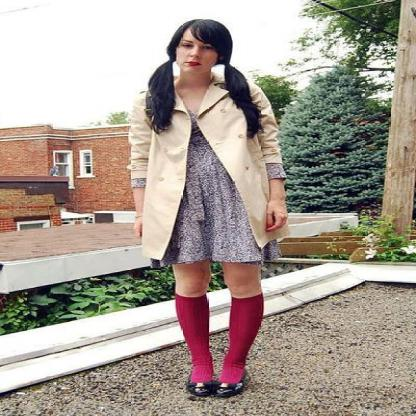dress: (113, 108, 280, 274)
jacket: (112, 67, 290, 257)
shoe: (187, 375, 248, 405)
